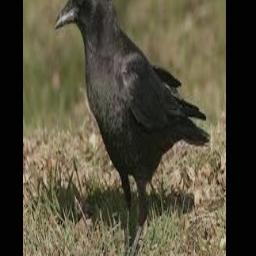Crow: (55, 0, 208, 256)
